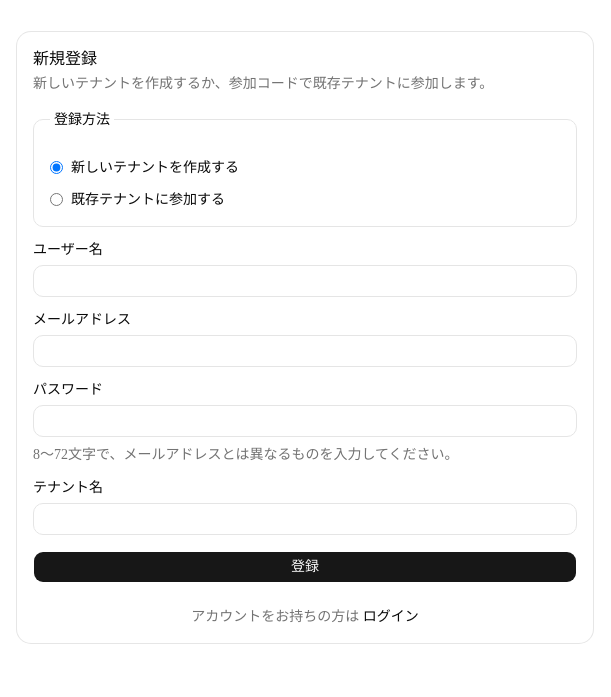
Test case: SignUpForm › ユーザー名が空の場合はバリデーションエラーを表示する
What coordinates should you click on to do the following:
click the button "登録"
I would click on:
 (305, 566)
Its box is [33, 550, 577, 582].
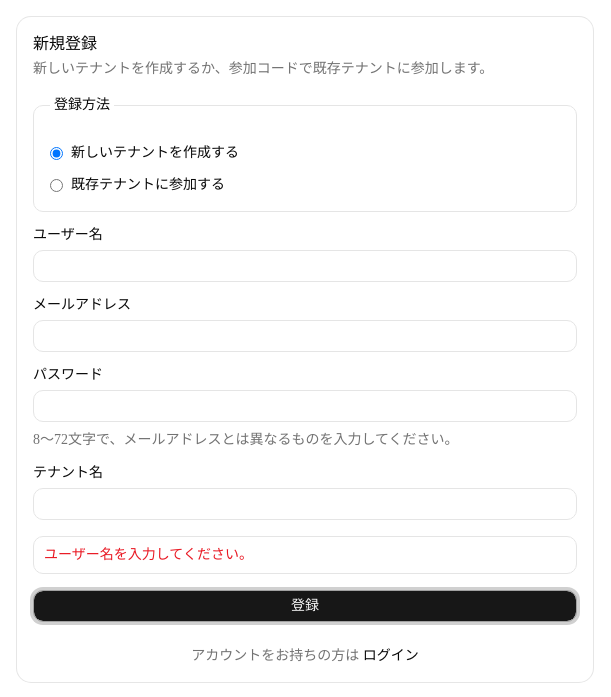
Now the text "ユーザー名を入力してください。" is shown, box [44, 547, 253, 562]
